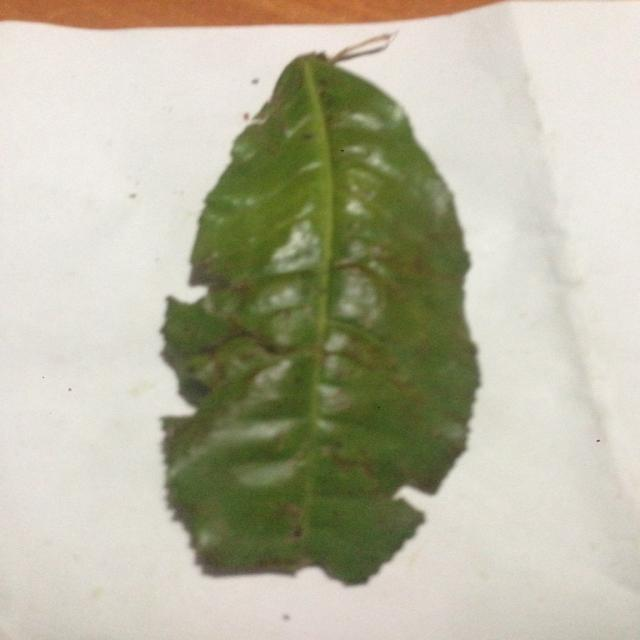Red Leaf Spot: (168, 44, 500, 591)
